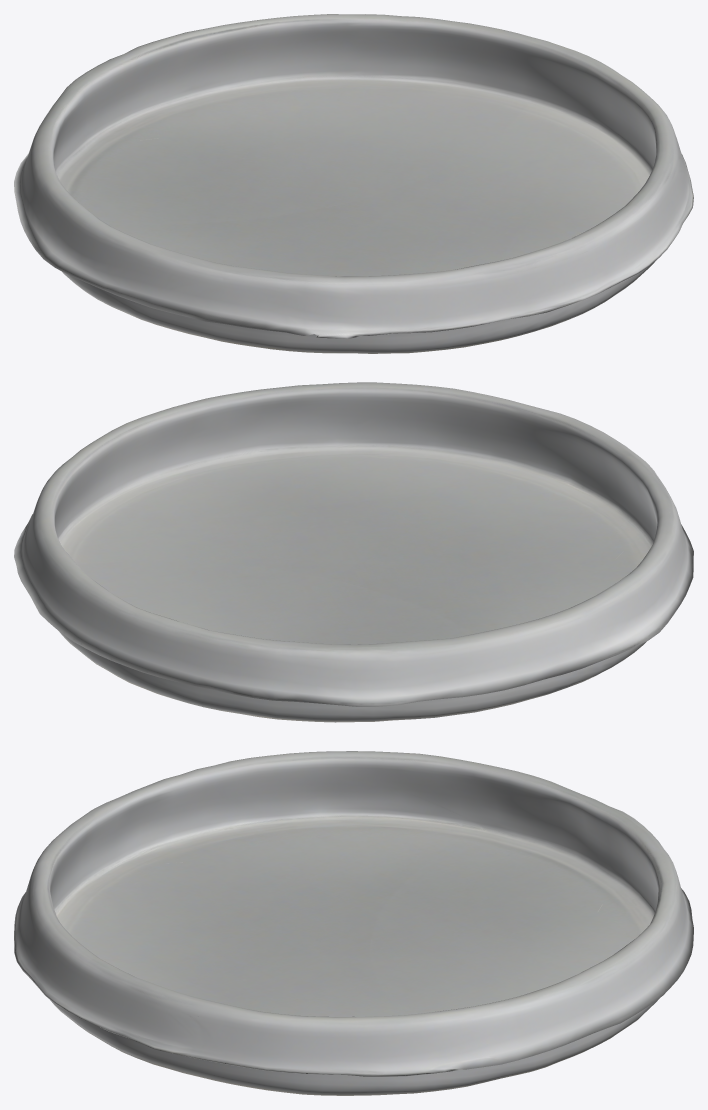
Rendered from Petri_Dish__0813052448_texture.fbx.
The picture shows the model from 3 angles, top to bottom: view 1: azimuth 30°, elevation 25°; view 2: azimuth 150°, elevation 25°; view 3: azimuth 270°, elevation 25°; orthographic projection.
Visible parts, largest first — view 1: input; view 2: input; view 3: input.
Boxes of the visible parts, x1,y1,x2,y2 form: input: (14, 14, 693, 353); input: (14, 382, 693, 722); input: (14, 751, 693, 1095).
Bounding box in the file's own units: 196 × 24.85 × 193.
Materials: 1 (1 with a texture image).
